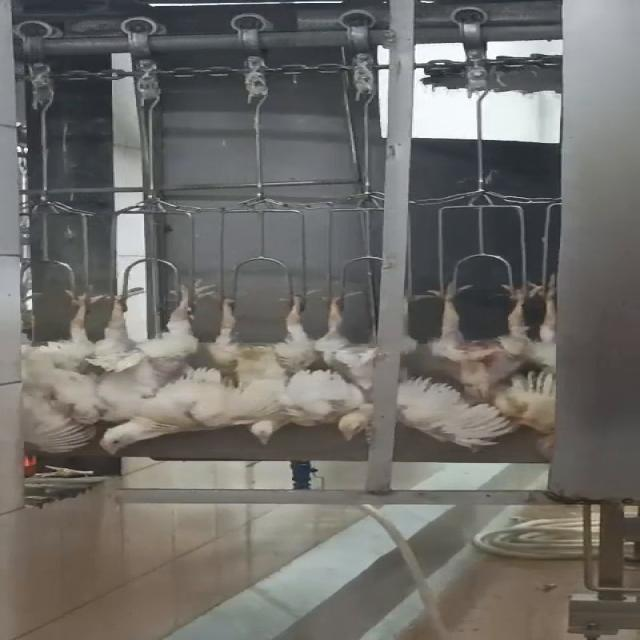chicken: (327, 304, 515, 452), (92, 278, 208, 457), (201, 291, 325, 450), (0, 288, 101, 458), (425, 275, 536, 406), (524, 282, 566, 454)
